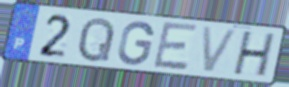2: (38, 13, 72, 61)
E: (151, 20, 200, 72)
G: (115, 20, 156, 67)
H: (230, 30, 278, 79)
Q: (76, 16, 117, 64)
V: (200, 25, 241, 75)
